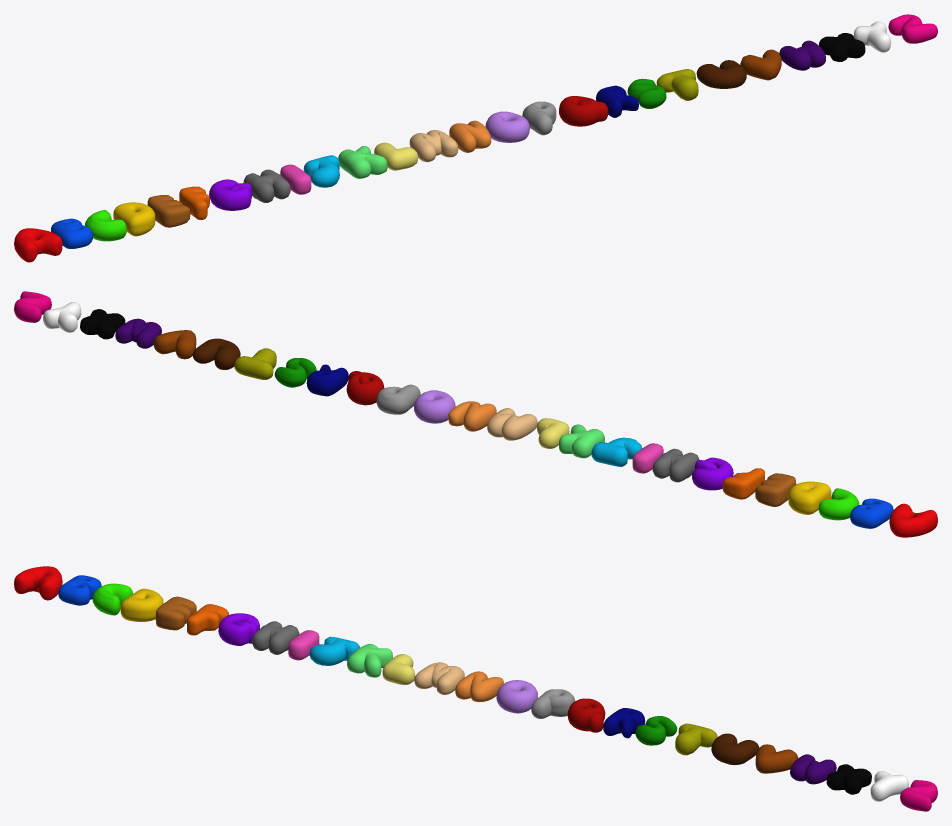
Rendered from bubble_letters.glb.
3 renders of one model, top to bottom at view 1: azimuth 30°, elevation 25°; view 2: azimuth 150°, elevation 25°; view 3: azimuth 330°, elevation 25°, orthographic.
Parts seen in each view (by area): view 1: A_0, Q_16, K_10, G_7, O_13, M_12, U_20, H_4, D_5, Z_25, E_3, W_22 (+14 smaller); view 2: A_0, M_12, H_4, D_5, O_13, N_15, U_20, J_9, G_7, K_10, P_14, Q_16 (+14 smaller); view 3: A_0, M_12, O_13, D_5, U_20, G_7, K_10, N_15, H_4, Q_16, E_3, J_9 (+14 smaller).
Part boxes in pixels (x1,y1,x2,y2): A_0: (14, 228, 62, 262); Q_16: (559, 96, 608, 126); K_10: (338, 146, 387, 178); G_7: (209, 179, 252, 210); O_13: (485, 111, 529, 142); M_12: (409, 130, 458, 162); U_20: (696, 60, 746, 88); H_4: (243, 169, 290, 202); D_5: (113, 202, 155, 236); Z_25: (888, 14, 937, 43); E_3: (147, 195, 190, 227); W_22: (779, 40, 825, 70); A_0: (889, 503, 937, 537); M_12: (487, 408, 537, 440); H_4: (652, 448, 699, 482); D_5: (788, 481, 831, 514); O_13: (414, 390, 455, 423); N_15: (448, 401, 496, 431); U_20: (192, 338, 240, 369); J_9: (591, 437, 642, 466); G_7: (692, 457, 733, 490); K_10: (559, 424, 604, 458); P_14: (376, 384, 420, 414); Q_16: (346, 371, 384, 405); A_0: (14, 566, 62, 600); M_12: (414, 662, 464, 694); O_13: (496, 680, 537, 713); D_5: (120, 588, 163, 621); U_20: (711, 733, 759, 765); G_7: (218, 613, 259, 645); K_10: (347, 644, 392, 677); N_15: (455, 671, 503, 701); H_4: (252, 621, 299, 654); Q_16: (567, 698, 605, 732); E_3: (155, 596, 196, 630); J_9: (309, 636, 359, 665).
Size of the model in its own units: 23.11 by 0.5389 by 1.03.
